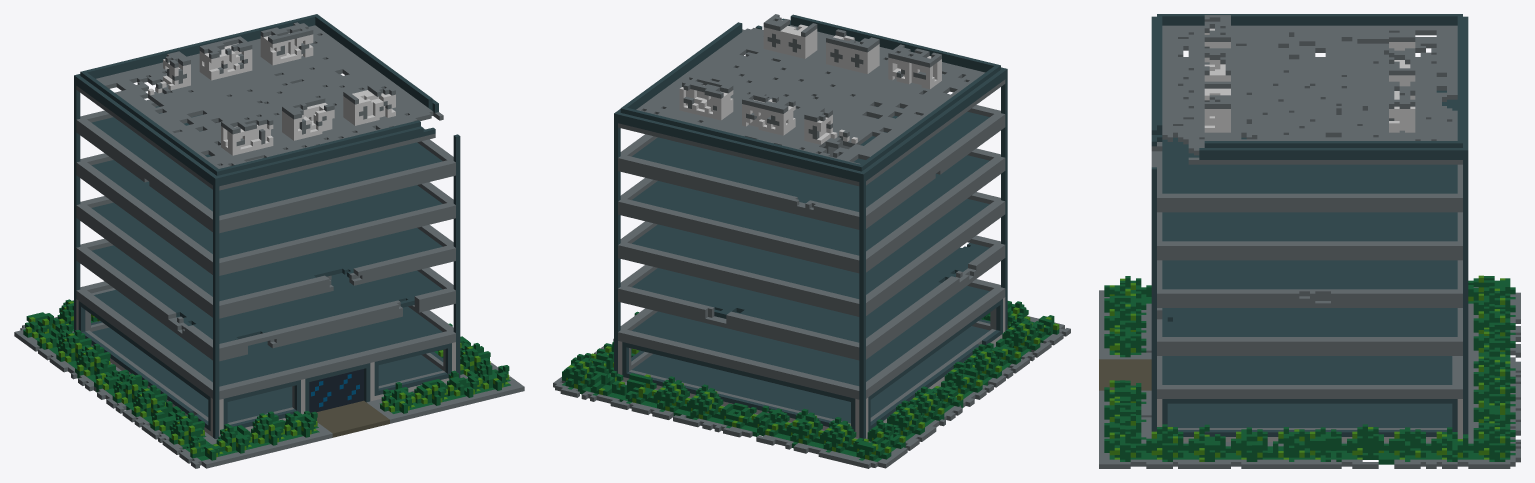
Rendered from building_big_1_destroyed.obj.
3 renders of one model, left to right at view 1: azimuth 30°, elevation 25°; view 2: azimuth 150°, elevation 25°; view 3: azimuth 270°, elevation 25°, orthographic. The views are drawn at different scales.
Size of the model in its own units: 8 by 6.7 by 8.
Materials: 1 (1 with a texture image).
